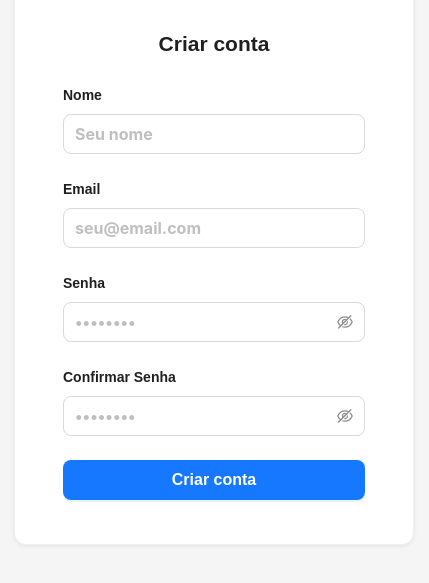
Test: NewUserForm › validates that the passwords must match
Type "Fulano" into the field with placeholder "Seu nome". click: (214, 134)
box: [63,114,365,154]
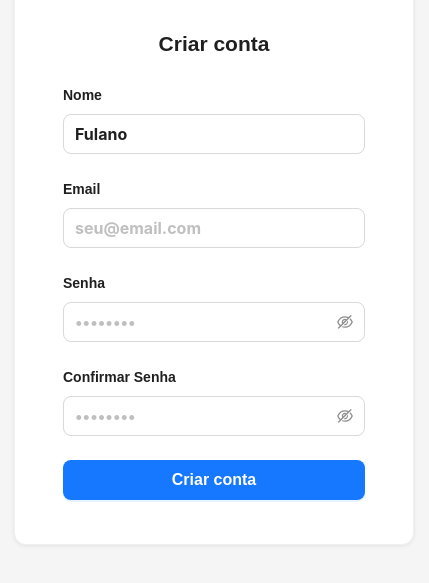
Type "a@b.com" into the field with placeholder "seu@email.com". click: (214, 228)
box: [63,208,365,248]
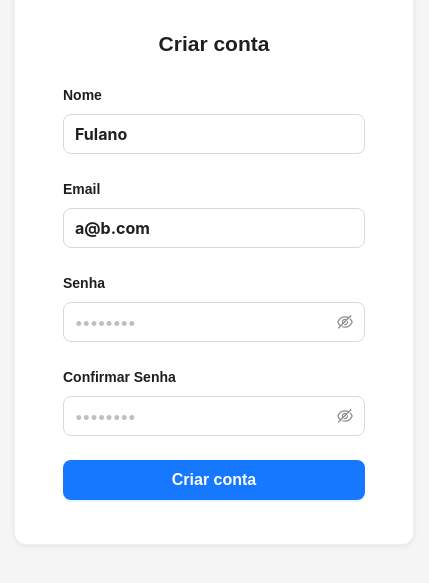
Type "123456" into the 1st password field with placeholder "••••••••". click: (204, 322)
box: [75,310,333,334]
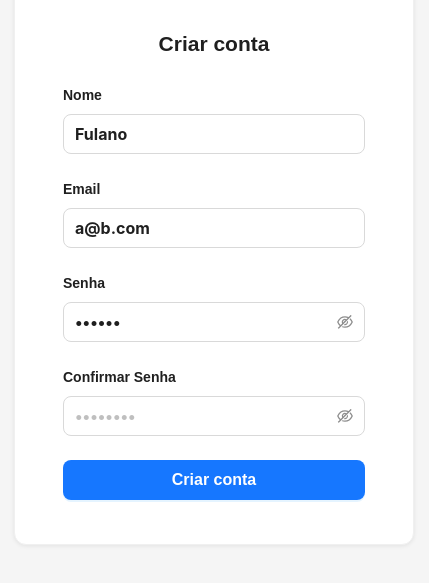
Type "diferente" into the password field with placeholder "••••••••". click: (204, 416)
box: [75,404,333,428]
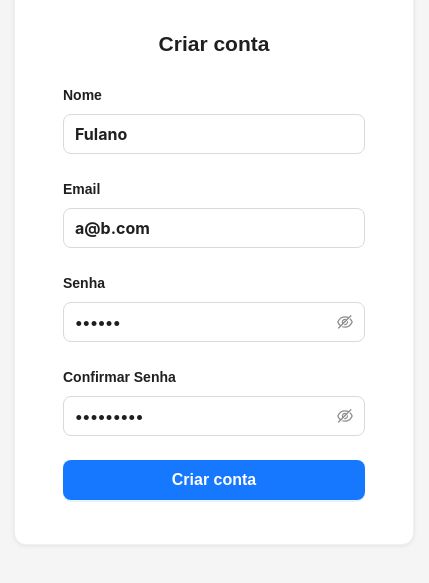
Click the button "Criar conta". click: click(214, 480)
box: [63,460,365,500]
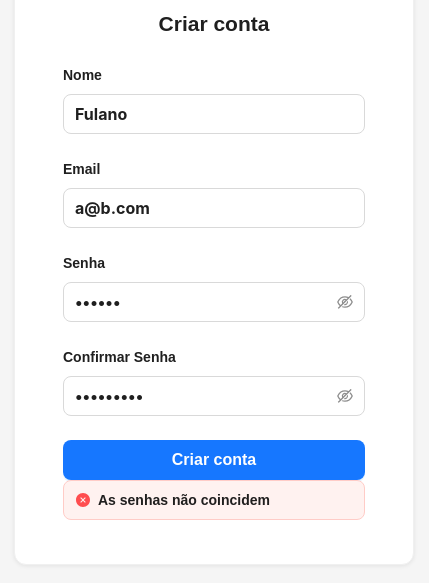
expect the text "As senhas não coincidem" is shown: met, box [98,492,270,508]
